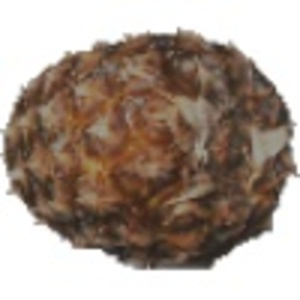abacaxi: (3, 27, 297, 264)
